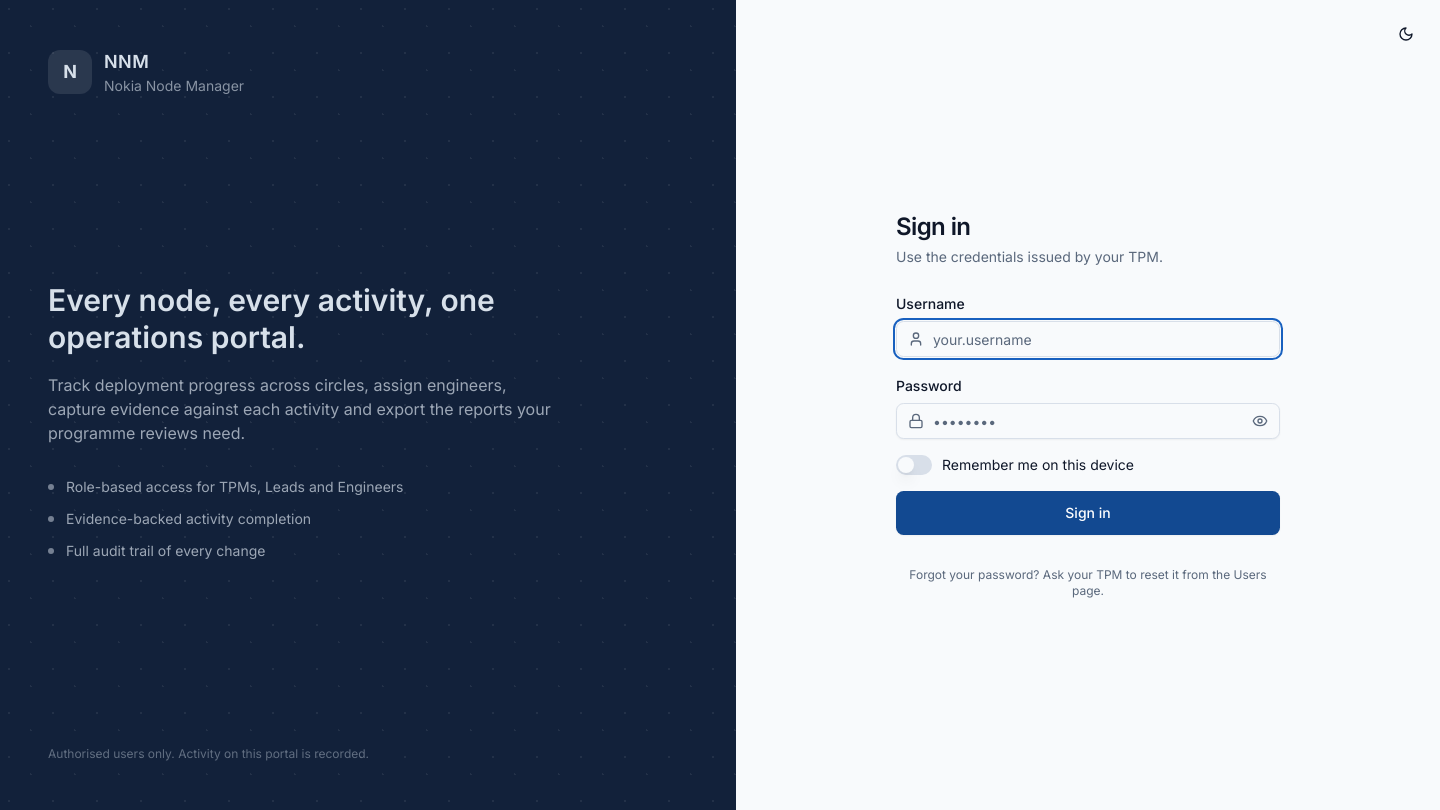
Test: LoginPage › refuses to submit when a field is empty
What coordinates should you click on to do the following:
click the button "Sign in"
I would click on:
 (1088, 513)
Its box is [896, 491, 1280, 535].
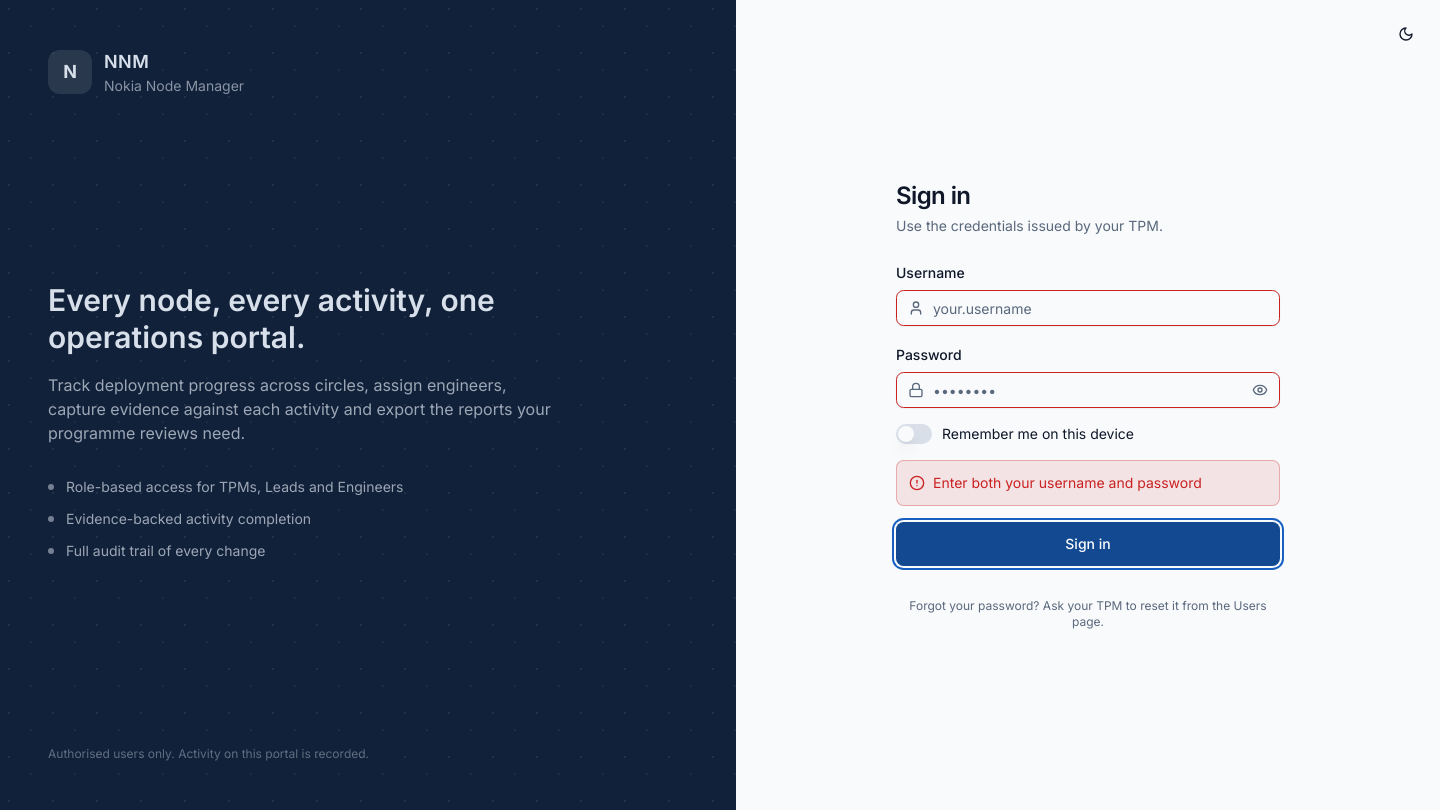
Check: the message reads "Enter both your username and password", box [933, 474, 1202, 491]
